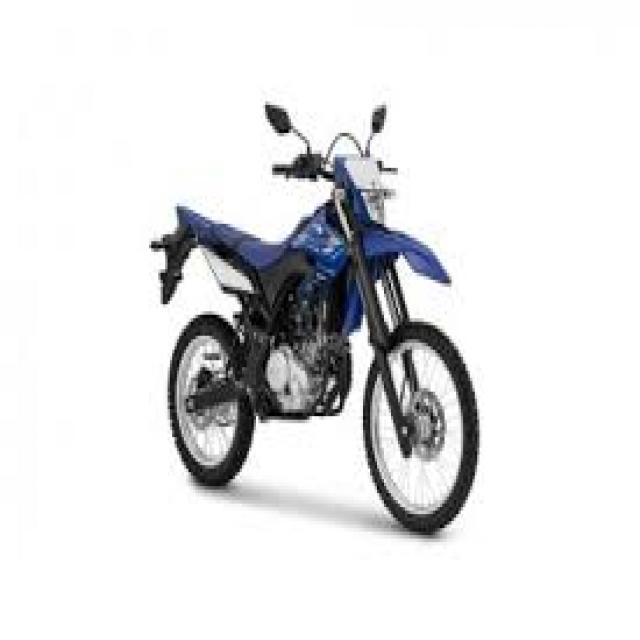Bike: (149, 101, 481, 538)
